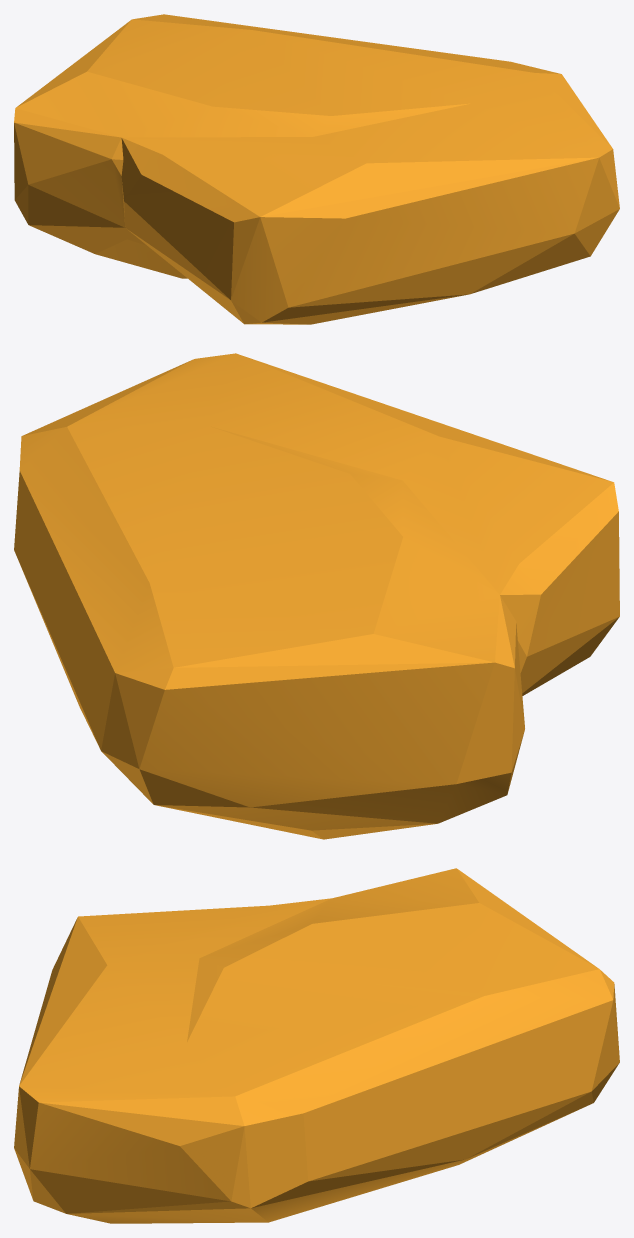
The model's file is SM_Iceberg_Tiny_B.fbx.
3 renders of one model, top to bottom at view 1: azimuth 30°, elevation 25°; view 2: azimuth 150°, elevation 25°; view 3: azimuth 270°, elevation 25°, orthographic. The views are drawn at different scales.
Parts seen in each view (by area): view 1: iceberg-tiny-b; view 2: iceberg-tiny-b; view 3: iceberg-tiny-b.
Boxes of the visible parts, x1=… form: iceberg-tiny-b: x1=14, y1=14, x2=619, y2=324; iceberg-tiny-b: x1=14, y1=353, x2=619, y2=839; iceberg-tiny-b: x1=14, y1=868, x2=619, y2=1223.
Bounding box in the file's own units: 0.4615 × 0.1915 × 0.4606.
